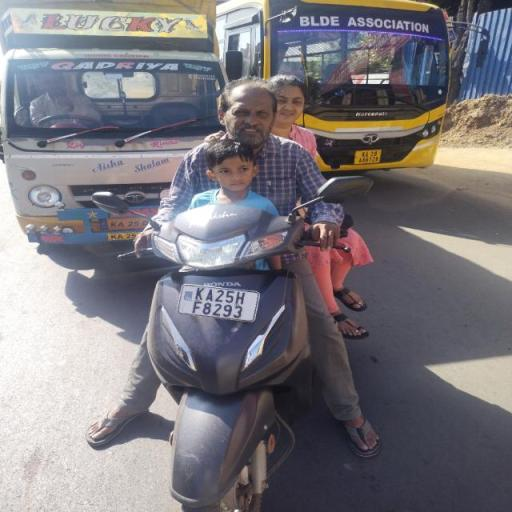bike: (84, 70, 402, 512), (220, 80, 278, 138)
numberplate: (179, 280, 263, 330)
withouthelmet: (212, 143, 252, 192), (274, 75, 302, 125)
